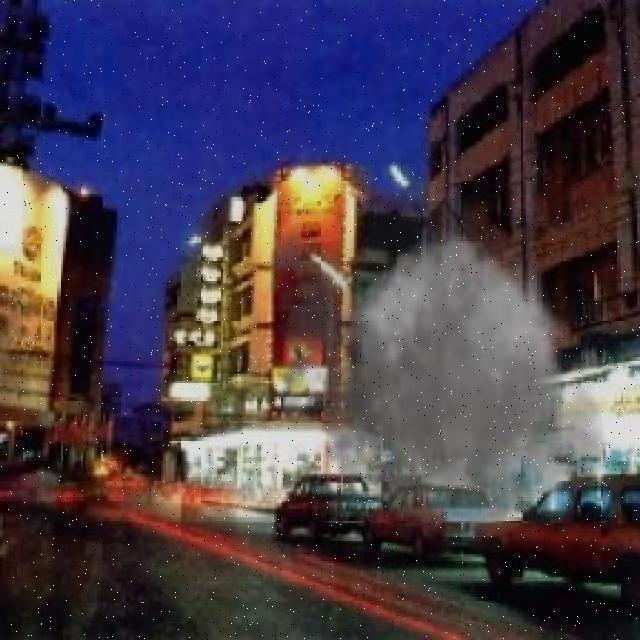smoke: (339, 237, 584, 519)
